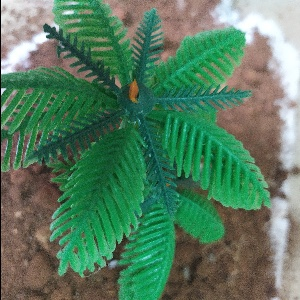plant: (5, 2, 270, 292)
